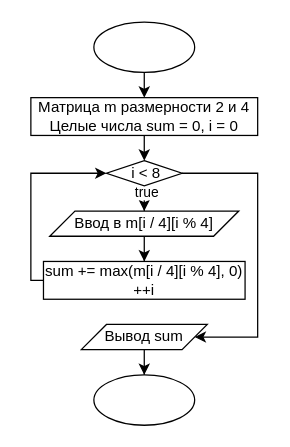
This 290x447 diagram has some shape labels left out. The shapes that lost their labels are listed below. From the top down, each one's box as (x1, y1, x2, y2) in pixels, then its label:
(93, 21, 195, 72): Начало
(93, 374, 195, 425): Конец
